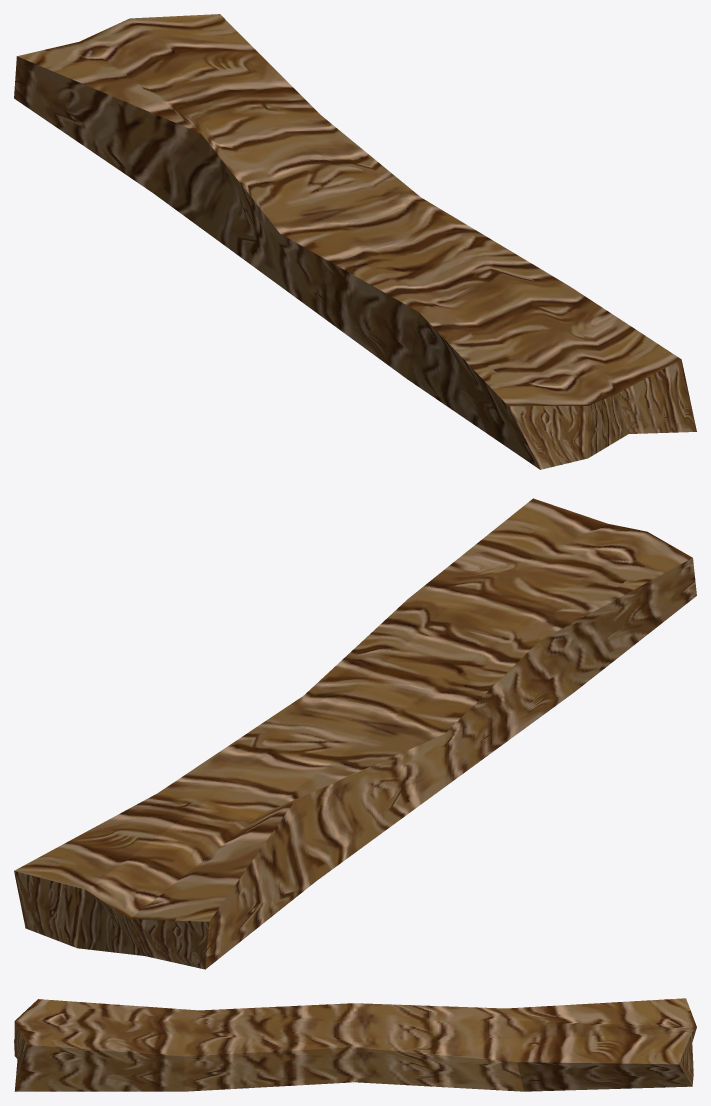
Rendered from Plank.fbx.
3 renders of one model, top to bottom at view 1: azimuth 30°, elevation 25°; view 2: azimuth 150°, elevation 25°; view 3: azimuth 270°, elevation 25°, orthographic. The views are drawn at different scales.
Parts seen in each view (by area): view 1: Cube; view 2: Cube; view 3: Cube.
Part boxes in pixels (left/top/right/bottom): Cube: left=14, top=14, right=696, bottom=469; Cube: left=14, top=498, right=696, bottom=969; Cube: left=14, top=998, right=696, bottom=1091.
Size of the model in its own units: 158 by 51.07 by 704.
